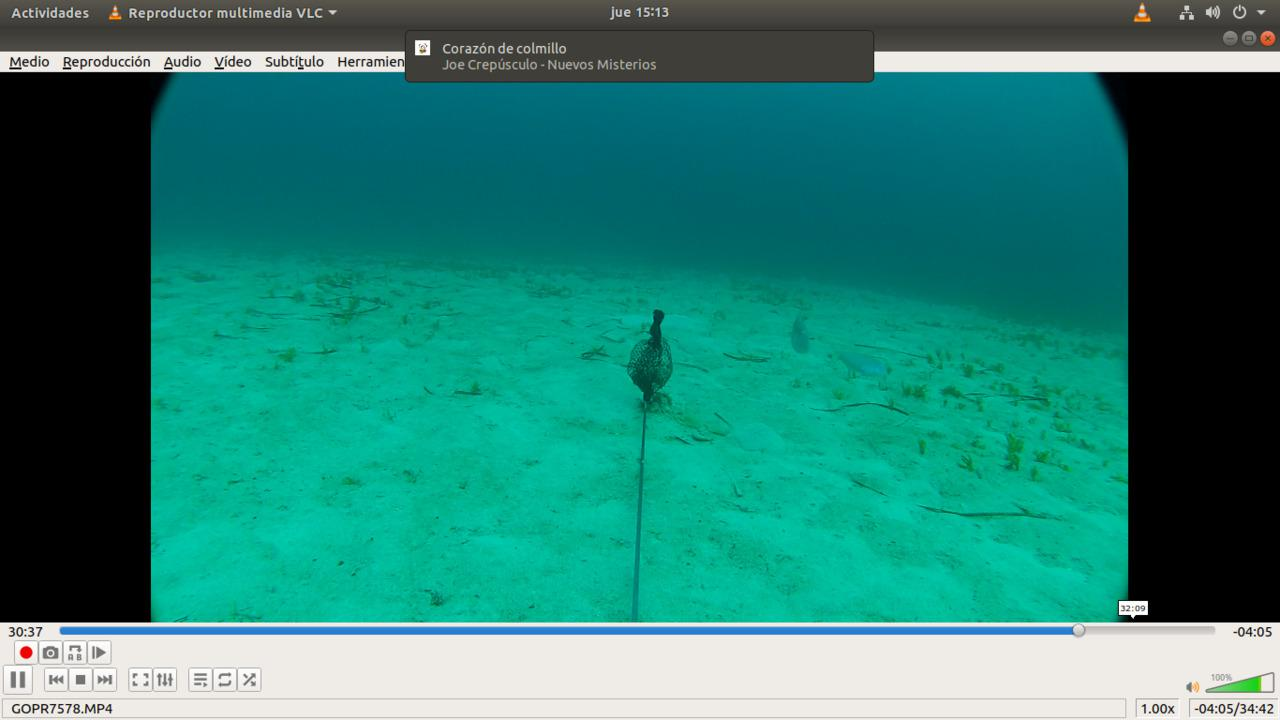raor: (826, 336, 898, 380), (779, 310, 813, 360)
